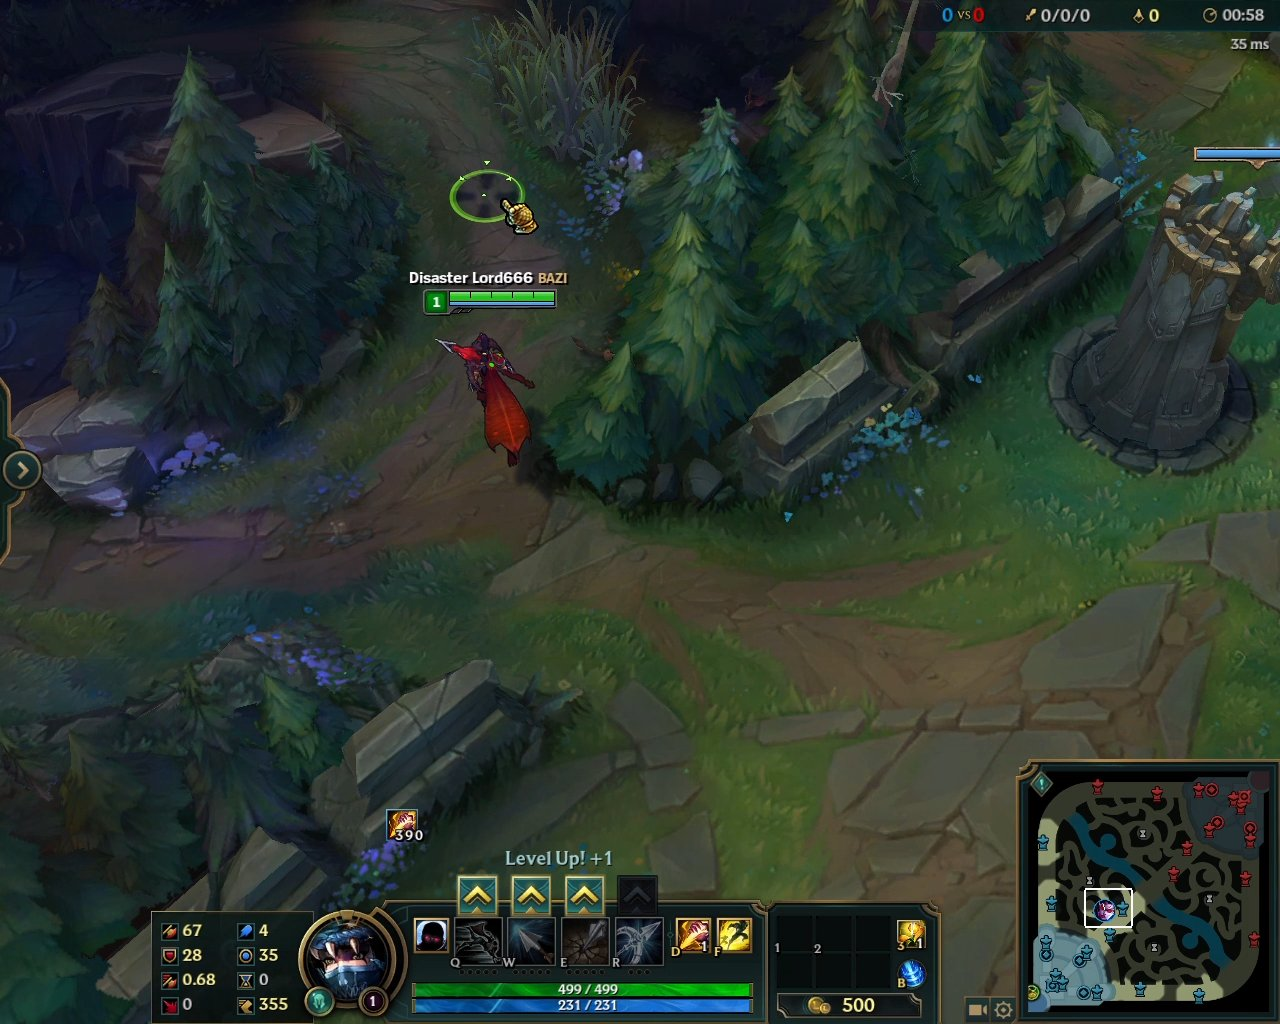Vayne: (432, 327, 542, 476)
